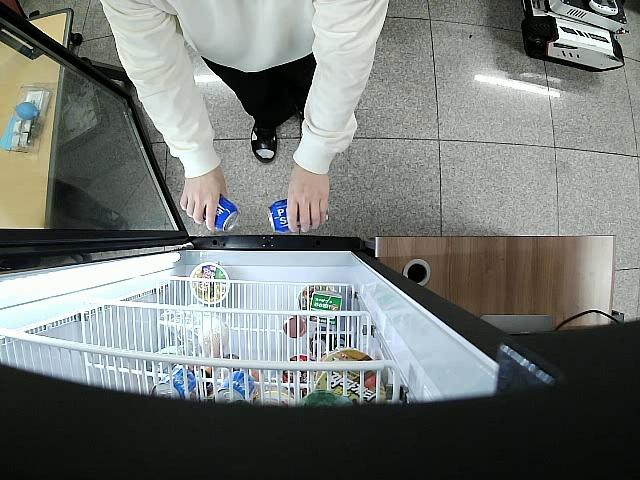00_hand: (180, 169, 229, 233), (287, 169, 331, 233)
13_pocariSweat: (201, 195, 239, 233), (268, 197, 301, 233)
